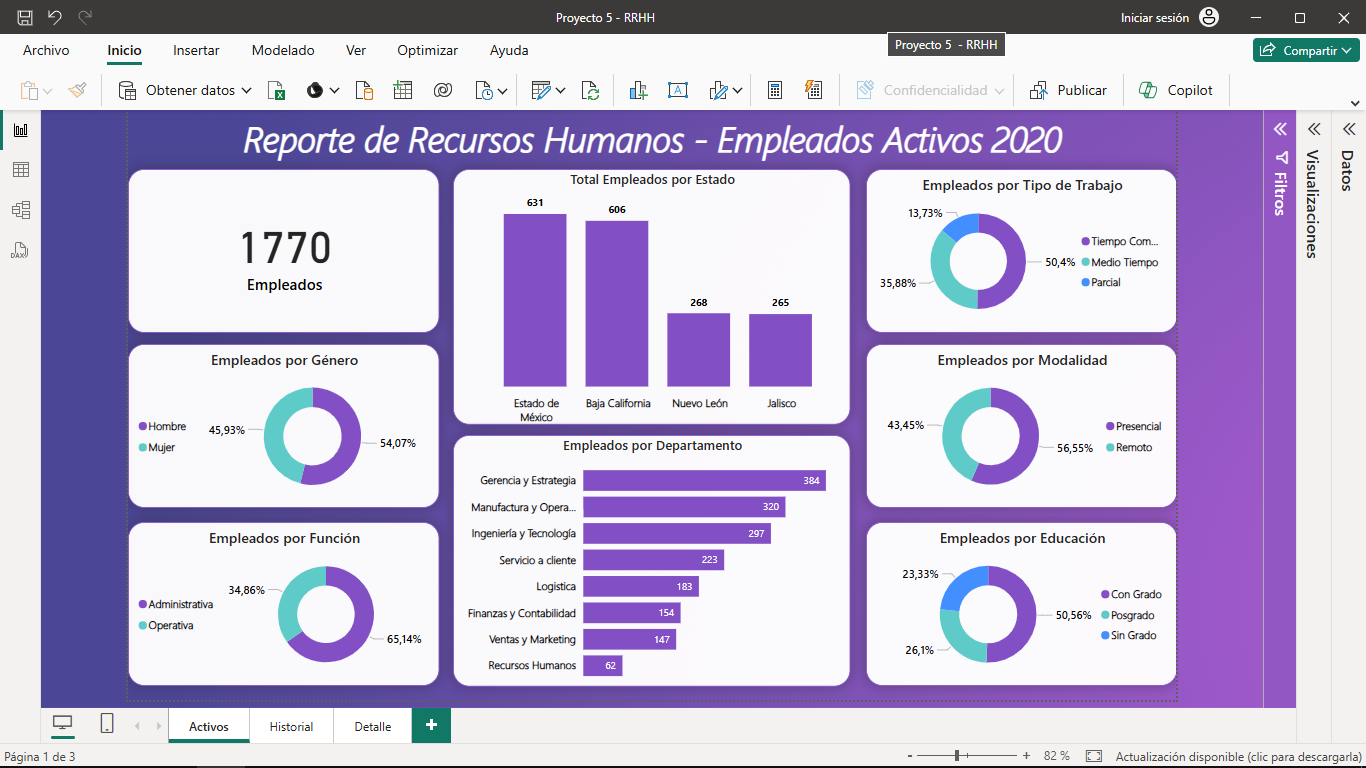

The dashboard page shown, as its layout file describes it:
{"tool":"powerbi","page":{"name":"Activos","canvas":[1280,720],"ordinal":0},"visuals":[{"type":"card","fields":{"Values":["RH.Total Emp"]},"box":[0,72,380.2,200.2],"z":0},{"type":"columnChart","title":"Total Empleados por Estado","fields":{"Y":["RH.Total Emp"],"Category":["RH.Unidad"]},"box":[396,72,485.3,312.5],"z":1000},{"type":"barChart","title":"Empleados por Departamento","fields":{"Y":["RH.Total Emp"],"Category":["RH.Departamento"]},"box":[396,396,485.3,306.7],"z":2000},{"type":"donutChart","title":"Empleados por Tipo de Trabajo","fields":{"Y":["RH.Total Emp"],"Category":["RH.Tipo de Trabajo"]},"box":[900,72,380.2,200.2],"z":3000},{"type":"textbox","box":[0,0,1280.2,72],"z":4000},{"type":"donutChart","title":"Empleados por Modalidad","fields":{"Y":["RH.Total Emp"],"Category":["RH.Modalidad"]},"box":[900,285.1,380.2,200],"z":5000},{"type":"donutChart","title":"Empleados por Función","fields":{"Y":["RH.Total Emp"],"Category":["RH.Función"]},"box":[0,502.6,380.2,200.2],"z":6000},{"type":"donutChart","title":"Empleados por Educación","fields":{"Y":["RH.Total Emp"],"Category":["RH.Educación"]},"box":[900,502.6,380.2,200.2],"z":7000},{"type":"donutChart","title":"Empleados por Género","fields":{"Y":["RH.Total Emp"],"Category":["RH.Género"]},"box":[0,285.1,380.2,200.2],"z":8000}]}

Visuals, with their boxes on the page's 1280x720 design canvas (x1, y1, x2, y2). These are canvas units, not pixel positions in the 1366x768 screenshot, which may show the page scaled, cropped or inside an application window:
card - RH.Total Emp: left=0, top=72, right=380, bottom=272
"Total Empleados por Estado" columnChart: left=396, top=72, right=881, bottom=384
"Empleados por Departamento" barChart: left=396, top=396, right=881, bottom=703
"Empleados por Tipo de Trabajo" donutChart: left=900, top=72, right=1280, bottom=272
textbox: left=0, top=0, right=1280, bottom=72
"Empleados por Modalidad" donutChart: left=900, top=285, right=1280, bottom=485
"Empleados por Función" donutChart: left=0, top=503, right=380, bottom=703
"Empleados por Educación" donutChart: left=900, top=503, right=1280, bottom=703
"Empleados por Género" donutChart: left=0, top=285, right=380, bottom=485
